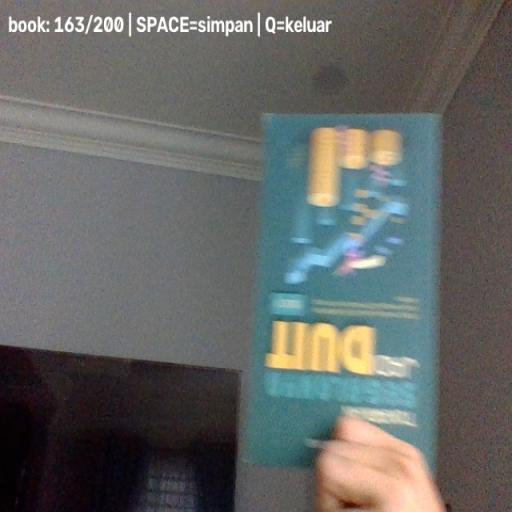Book: (244, 112, 443, 475)
